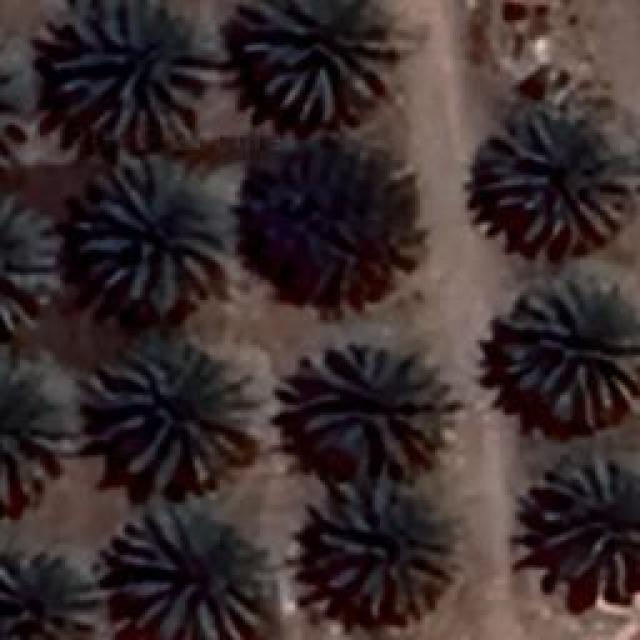PalmTree: (14, 111, 330, 220), (47, 5, 215, 153), (90, 340, 252, 490), (74, 158, 228, 312), (500, 274, 635, 428), (312, 477, 452, 625), (115, 500, 268, 635), (480, 115, 630, 250), (288, 340, 438, 472), (245, 0, 393, 128), (530, 455, 635, 600), (0, 360, 72, 510), (0, 547, 105, 635), (0, 192, 60, 332)
